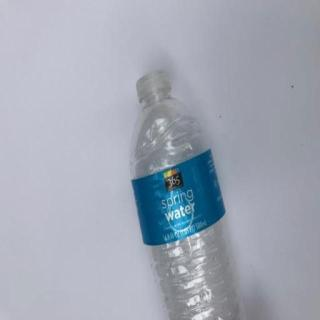Plastic-bottle: (129, 71, 249, 320)
